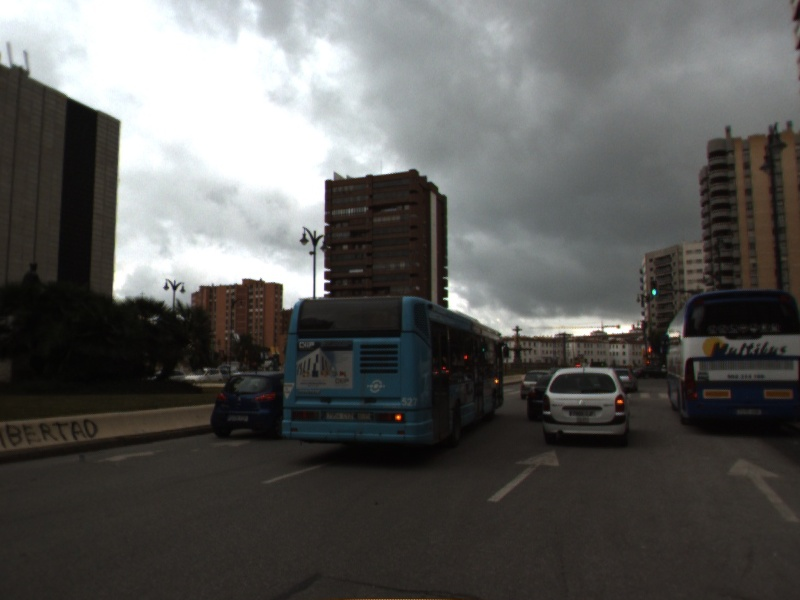STRAIGHT: (725, 456, 800, 523), (485, 447, 563, 505)
